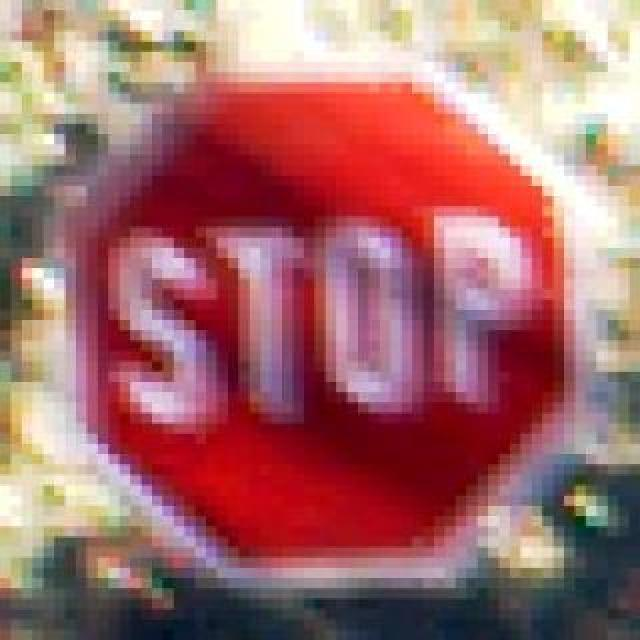stop: (42, 52, 586, 588)
